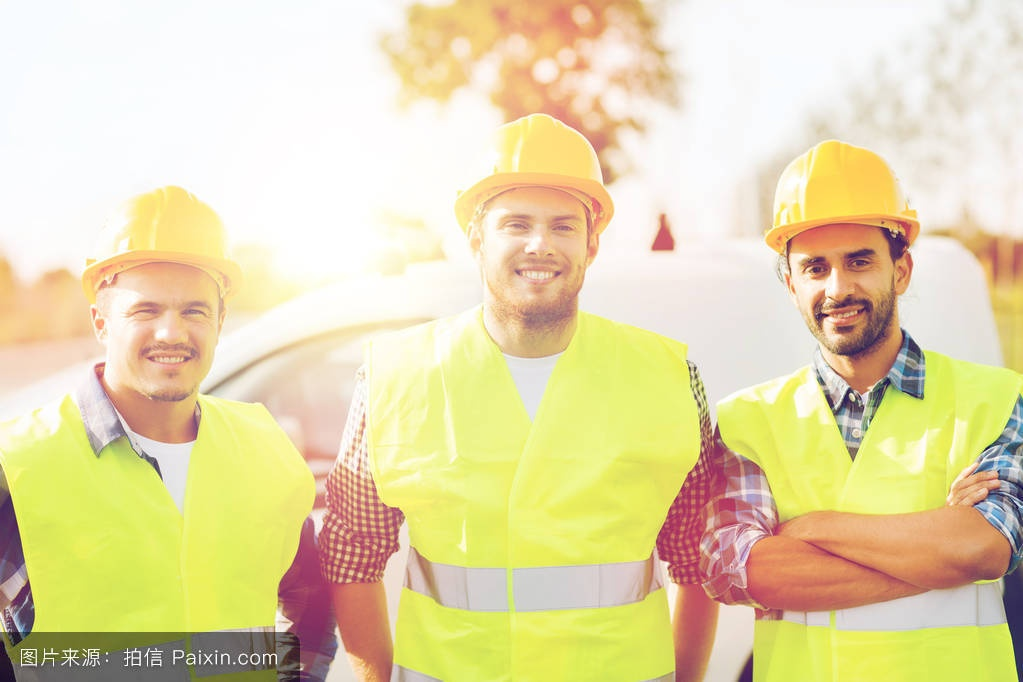yellow: (81, 181, 240, 403), (765, 136, 917, 360), (462, 117, 607, 320)
